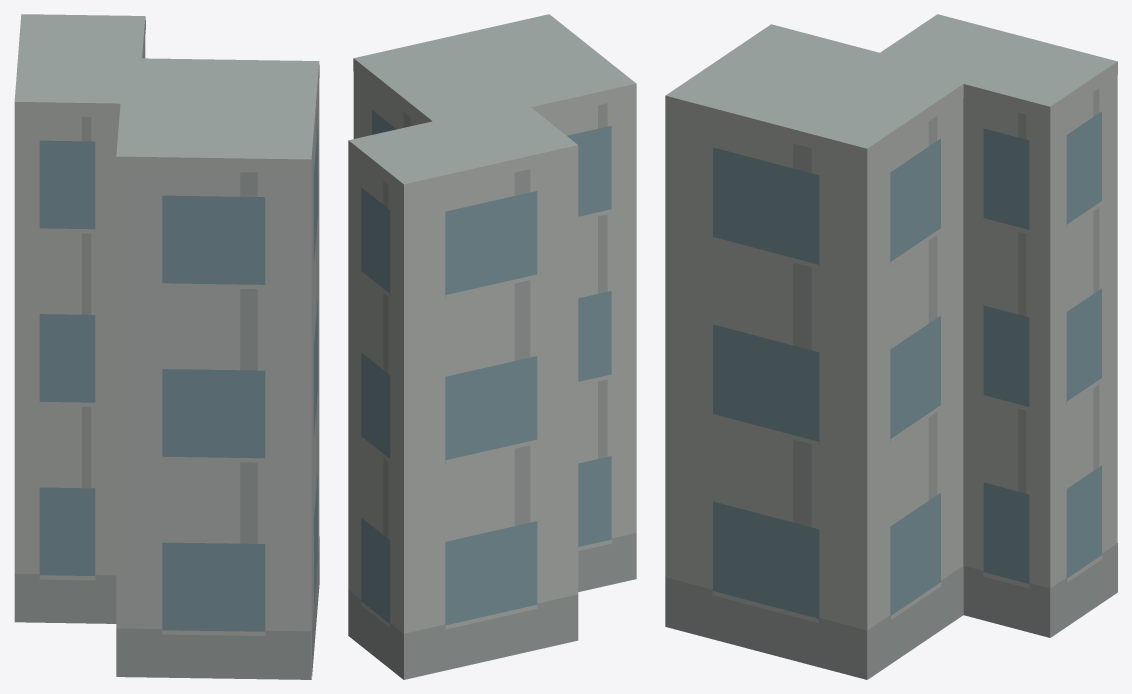
Rendered from survey-upis-32821683.glb.
The picture shows the model from 3 angles, left to right: view 1: azimuth 30°, elevation 25°; view 2: azimuth 150°, elevation 25°; view 3: azimuth 270°, elevation 25°; orthographic projection. The views are drawn at different scales.
Visible parts, largest first — view 1: survey-upis-32821683.tmp; view 2: survey-upis-32821683.tmp; view 3: survey-upis-32821683.tmp.
Boxes of the visible parts, left/top/right/bottom form: survey-upis-32821683.tmp: left=14, top=14, right=319, bottom=679; survey-upis-32821683.tmp: left=348, top=14, right=636, bottom=679; survey-upis-32821683.tmp: left=665, top=14, right=1117, bottom=679.
Bounding box in the file's own units: 4.99 × 9.15 × 7.07.
